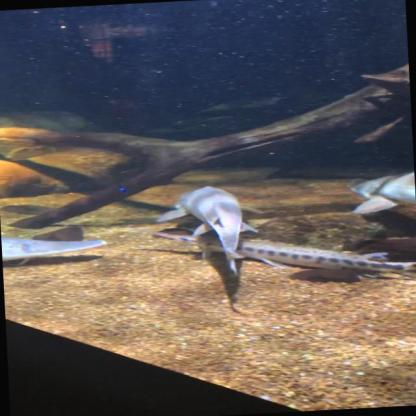fish: (126, 210, 416, 298), (1, 227, 108, 263)
shark: (157, 181, 264, 280)
